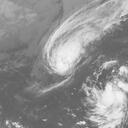cyclone: (42, 31, 86, 77)
